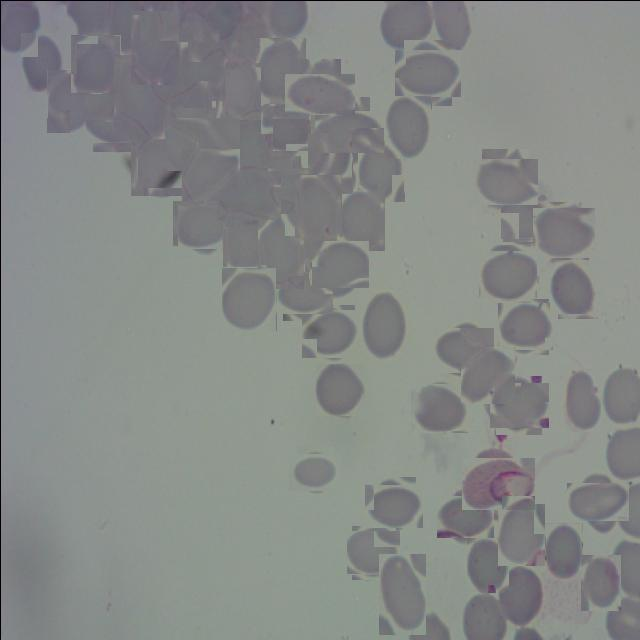leukocyte: (113, 54, 169, 138), (170, 112, 234, 175), (378, 553, 425, 634), (130, 9, 179, 84), (257, 212, 304, 288), (221, 266, 276, 330), (130, 129, 183, 195), (254, 37, 305, 103), (88, 88, 146, 146), (215, 50, 261, 122), (319, 103, 376, 160), (398, 44, 456, 100), (495, 561, 544, 627), (360, 290, 406, 360), (227, 105, 273, 175), (163, 80, 211, 147), (535, 204, 591, 261), (220, 165, 276, 222), (291, 65, 347, 121), (459, 346, 514, 403), (174, 197, 230, 252), (477, 152, 532, 208), (46, 68, 94, 132), (174, 40, 225, 100), (497, 502, 545, 565), (181, 148, 239, 200), (384, 94, 431, 158), (294, 173, 341, 237), (336, 190, 384, 252), (357, 139, 404, 201), (70, 34, 120, 92), (549, 258, 597, 318), (481, 247, 534, 300), (312, 238, 366, 290), (307, 131, 352, 193), (304, 306, 356, 359), (437, 324, 490, 376), (492, 378, 544, 431), (412, 381, 464, 434), (258, 102, 310, 154), (221, 8, 271, 62), (499, 300, 550, 352), (20, 32, 64, 92), (315, 362, 364, 415), (367, 480, 418, 530), (572, 476, 622, 527), (256, 161, 306, 212), (440, 490, 490, 540), (279, 267, 328, 317), (466, 535, 508, 592), (563, 368, 601, 431), (348, 528, 397, 576), (220, 216, 264, 268), (580, 554, 620, 610), (544, 522, 582, 578), (292, 450, 338, 494), (501, 196, 545, 240)
schizont: (466, 452, 530, 514)
